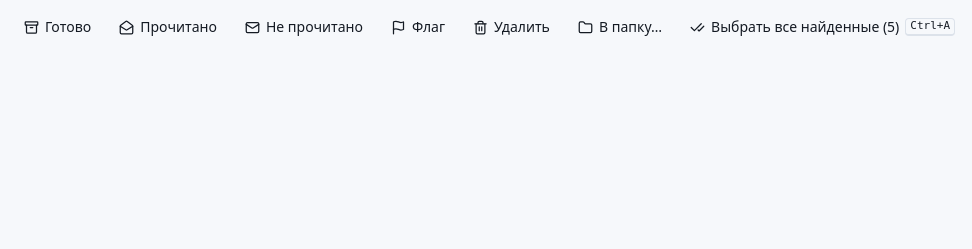
the set for several chosen rows › opens the folder menu under its own button, not under the whole row
Click the button with aria-label "В папку…" at (620, 27), box x1=566 y1=12 x2=674 y2=42
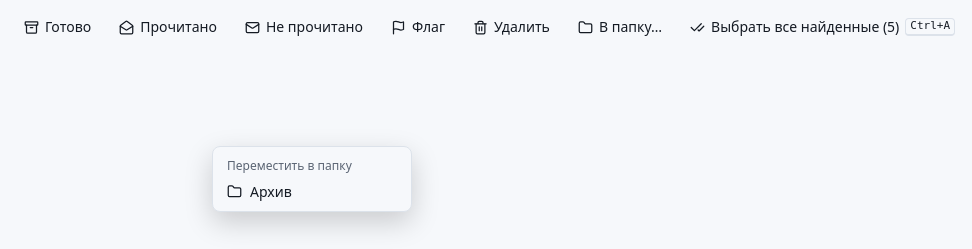
Expected: the menu is shown, x1=212 y1=146 x2=412 y2=212
